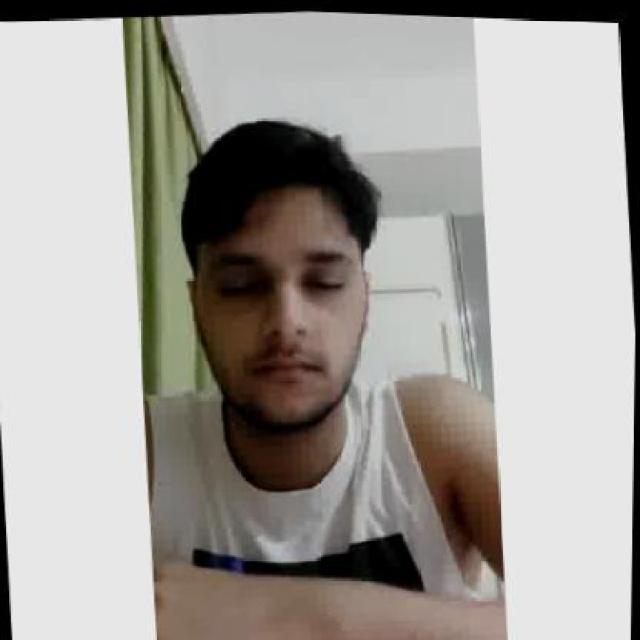inattentif: (168, 105, 384, 447)
